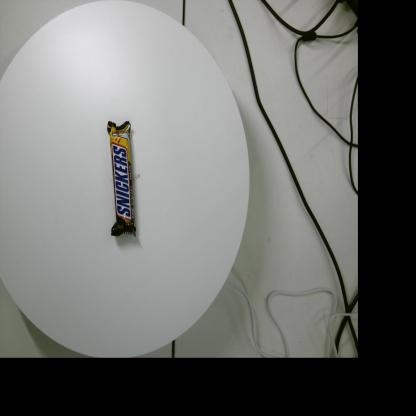Chocolate: (107, 120, 136, 237)
